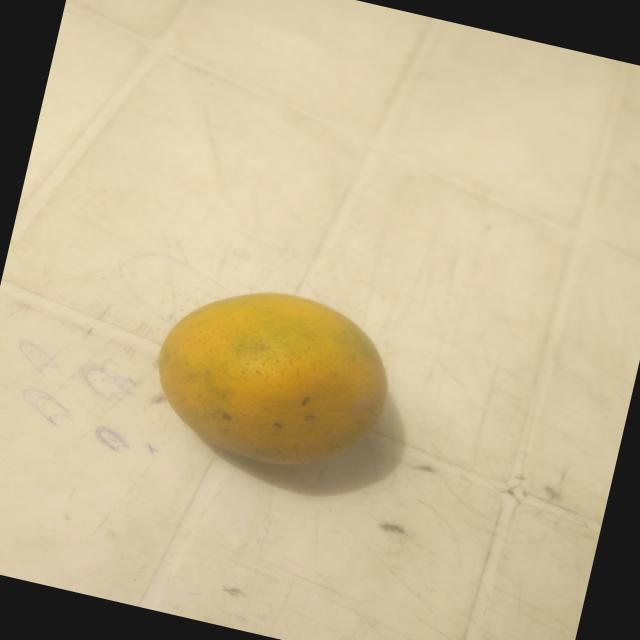Ripe orange: (102, 252, 437, 523)
